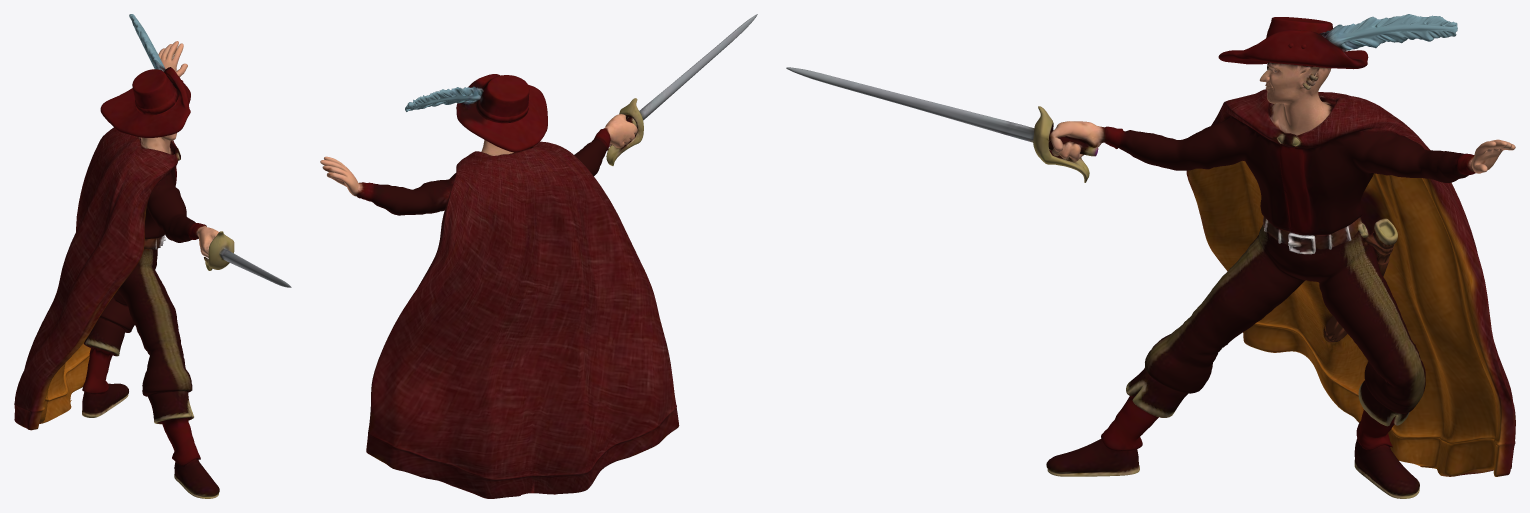
The model's file is MZ4250 - Zardoz Zord - Human Male Swashbuckler.glb.
3 renders of one model, left to right at view 1: azimuth 30°, elevation 25°; view 2: azimuth 150°, elevation 25°; view 3: azimuth 270°, elevation 25°, orthographic. The views are drawn at different scales.
Parts seen in each view (by area): view 1: default; view 2: default; view 3: default.
Boxes of the visible parts, <box> form: default: <box>14,14,291,498</box>; default: <box>320,14,757,498</box>; default: <box>786,14,1515,498</box>.
Bounding box in the file's own units: 0.8317 × 1.18 × 1.56.
Materials: 1 (1 with a texture image).
